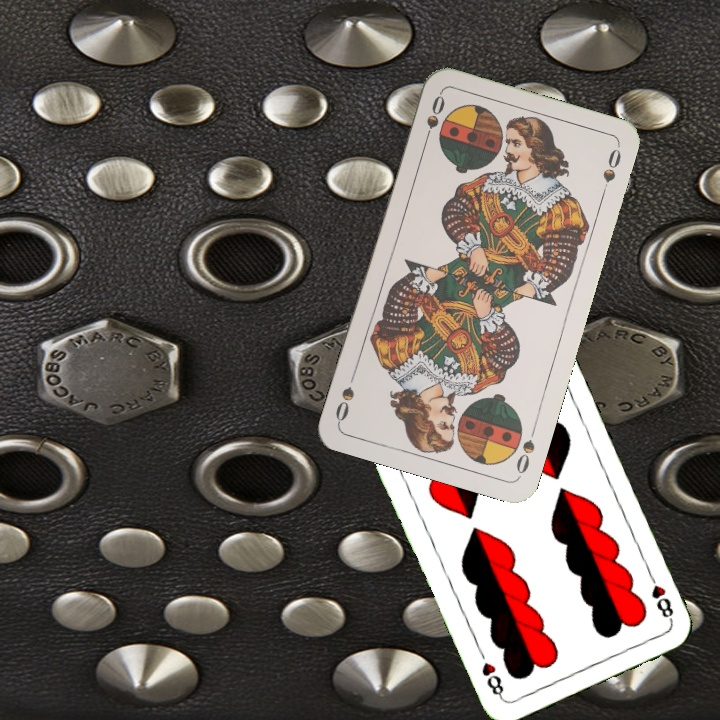H8: (644, 568, 676, 624)
SO: (419, 90, 448, 148), (512, 421, 540, 479)
